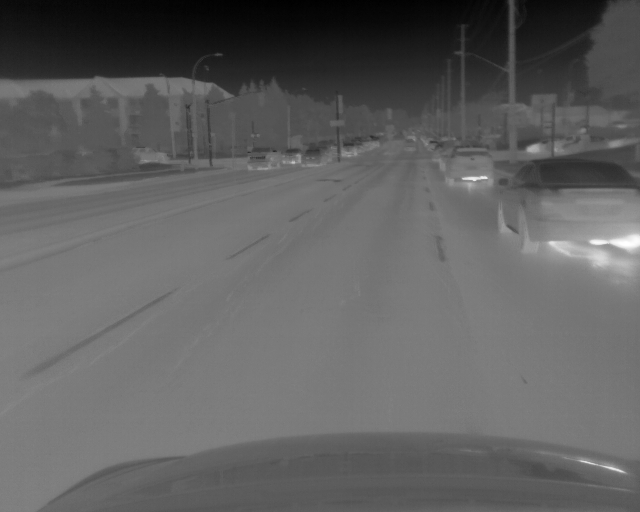car: (496, 159, 640, 253), (439, 145, 494, 188), (247, 146, 282, 169), (556, 134, 608, 149), (299, 147, 328, 168), (133, 146, 170, 162), (431, 141, 451, 159), (282, 148, 300, 164), (526, 140, 550, 152), (342, 140, 357, 157), (402, 140, 418, 152), (426, 141, 436, 150)
